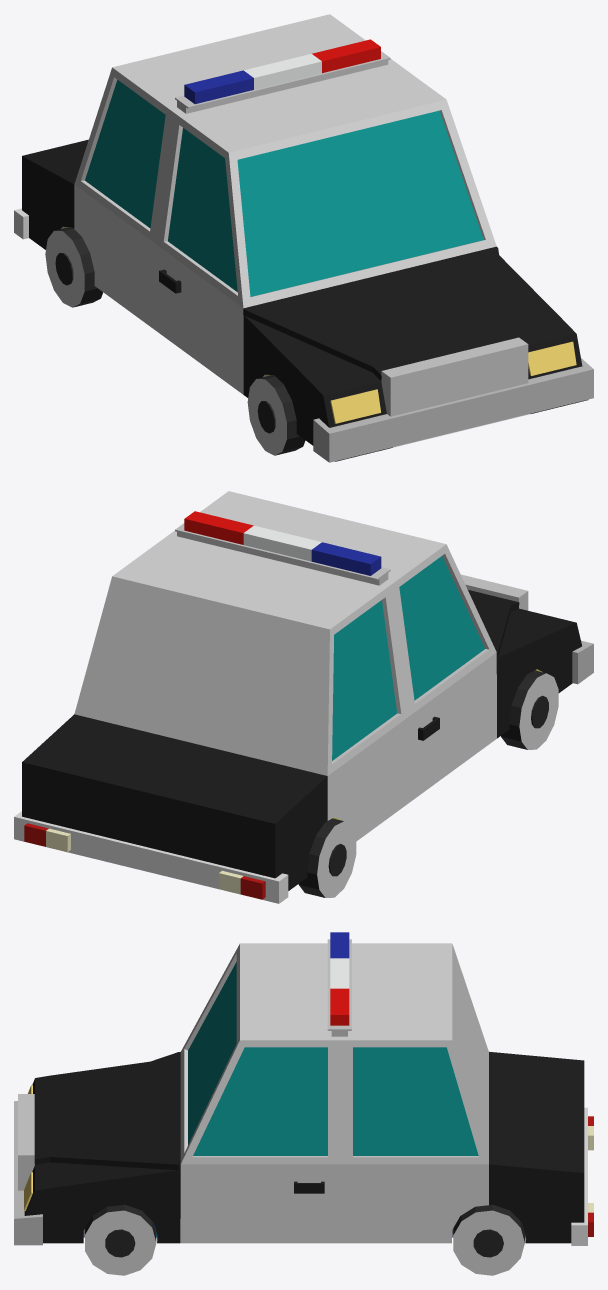
File: car_3.gltf
3 views of the same model, one above another, from view 1: azimuth 30°, elevation 25°; view 2: azimuth 150°, elevation 25°; view 3: azimuth 270°, elevation 25° (orthographic). The views are drawn at different scales.
Parts seen in each view (by area): view 1: Police car.005_Multicolor_0; view 2: Police car.005_Multicolor_0; view 3: Police car.005_Multicolor_0.
Part boxes in pixels (left/top/right/bottom): Police car.005_Multicolor_0: left=14, top=14, right=593, bottom=462; Police car.005_Multicolor_0: left=14, top=491, right=593, bottom=903; Police car.005_Multicolor_0: left=14, top=932, right=593, bottom=1275.
Bounding box in the file's own units: 1.89 × 1.74 × 3.79.
Materials: 1 (1 with a texture image).
